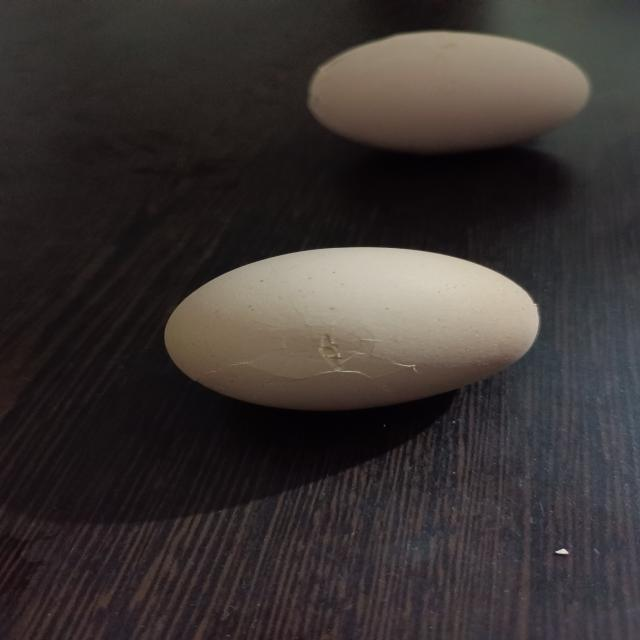biodegradable: (161, 243, 548, 412)
